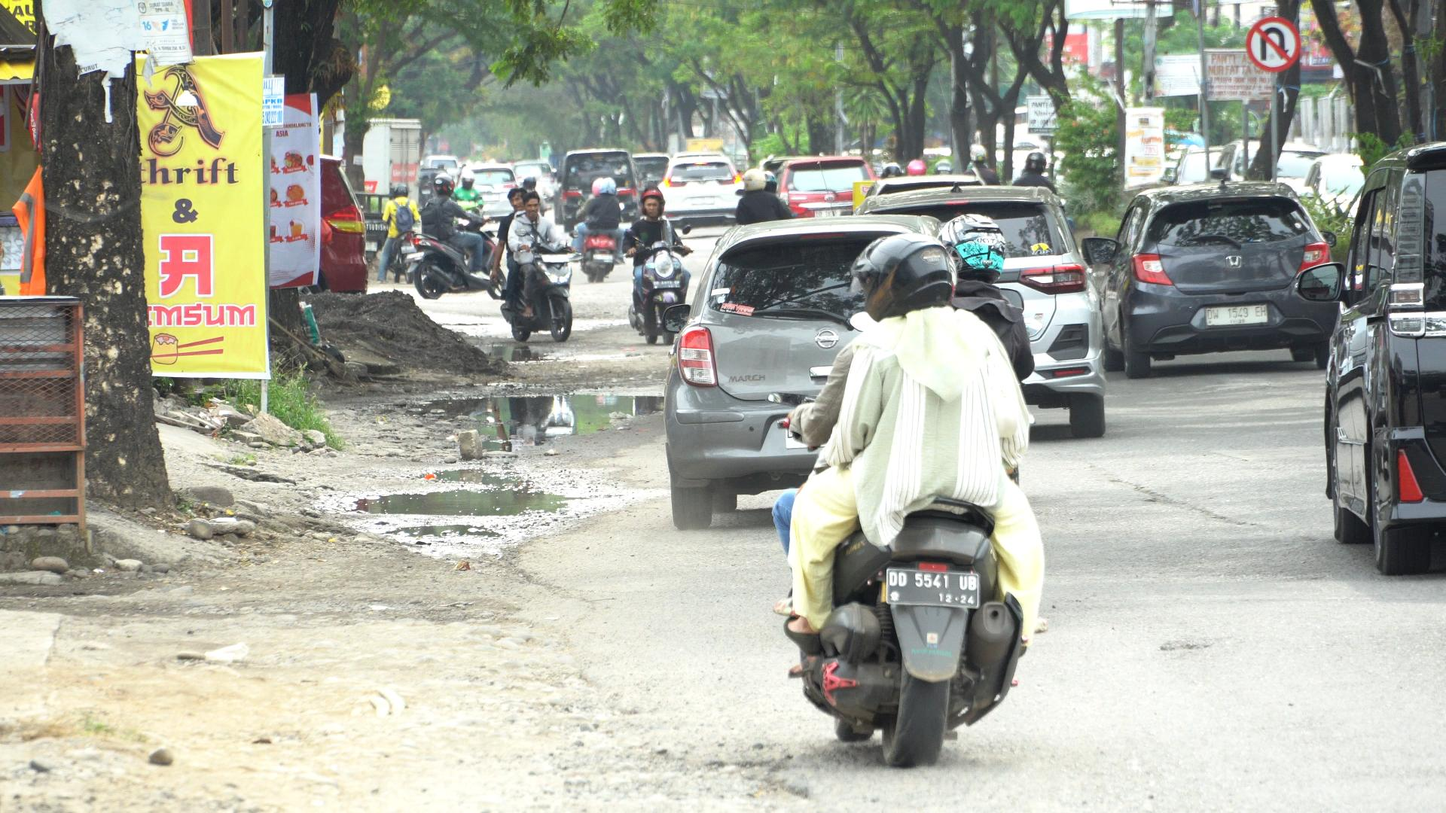number-plate: (649, 276, 683, 288)
